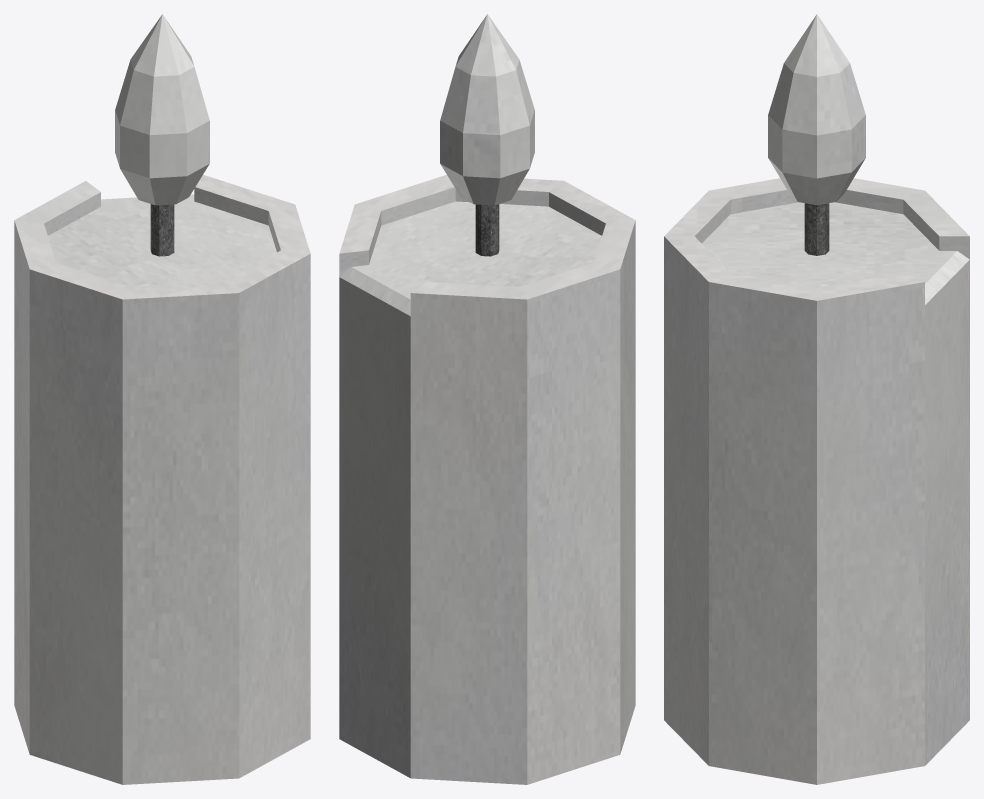
The model's file is Velas_pequeñas.fbx.
3 renders of one model, left to right at view 1: azimuth 30°, elevation 25°; view 2: azimuth 150°, elevation 25°; view 3: azimuth 270°, elevation 25°, orthographic.
Visible parts, largest first — view 1: Vela_pequeña; view 2: Vela_pequeña; view 3: Vela_pequeña.
Boxes of the visible parts, left/top/right/bottom form: Vela_pequeña: left=14, top=14, right=310, bottom=784; Vela_pequeña: left=339, top=14, right=635, bottom=784; Vela_pequeña: left=664, top=14, right=969, bottom=784.
Size of the model in its own units: 2 by 5.1 by 2.
1 material, 1 textured.
